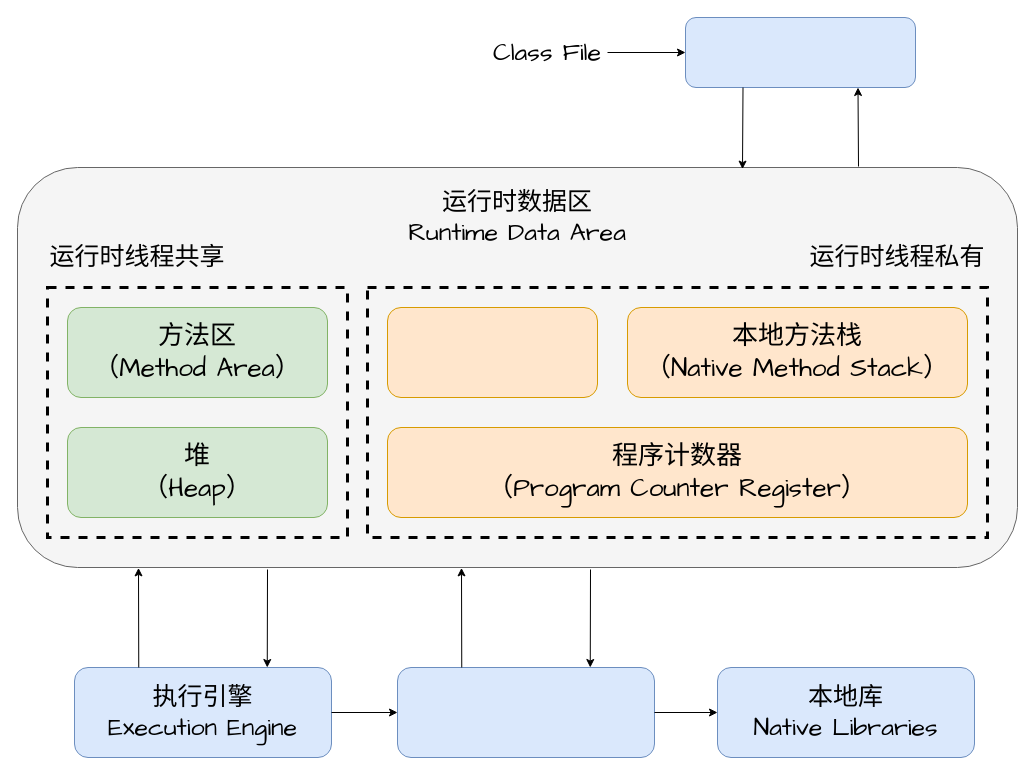
Image size: 1035x775. Some labels were removed from this diagram. The shapes that lost their labels are listed below. From the top down, each one's box as (x1, y1, x2, y2) in pixels, then its label:
(684, 16, 916, 88): ClassLoader
(386, 306, 598, 398): 虚拟机栈 （VM Stack）
(396, 666, 654, 758): 本地接口 Native Interface
